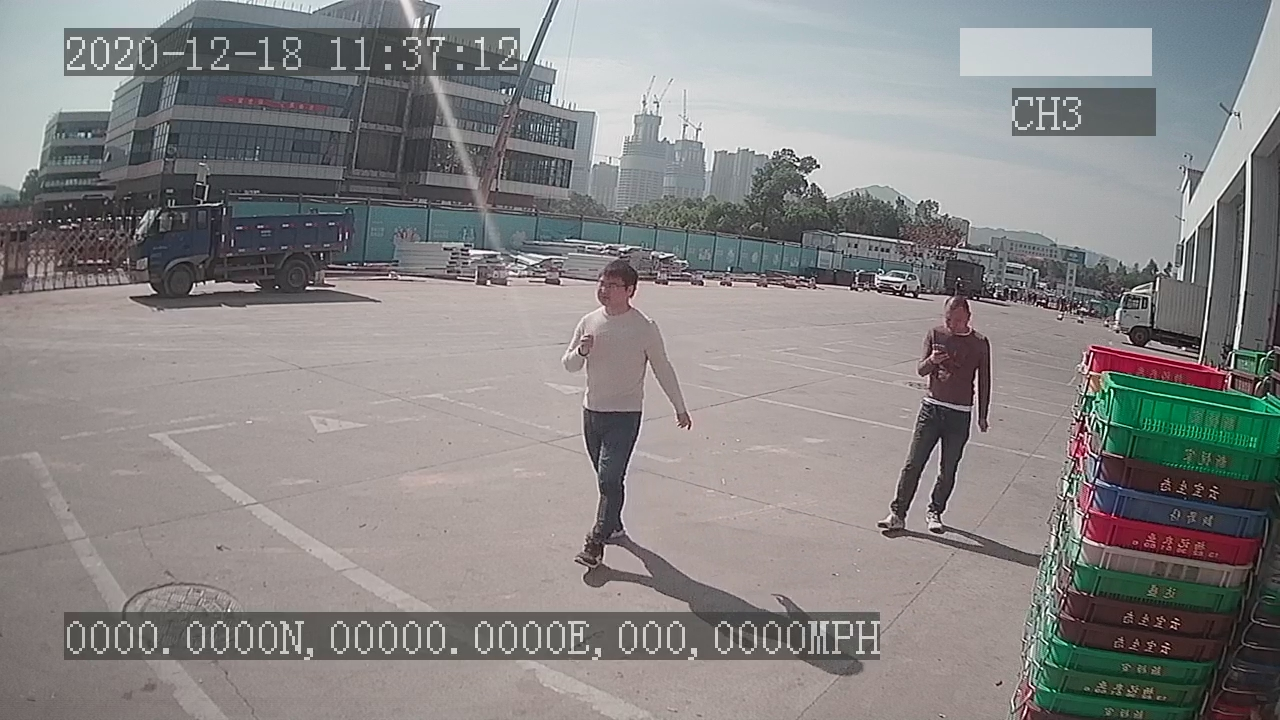person: (545, 254, 695, 574), (875, 286, 999, 540)
